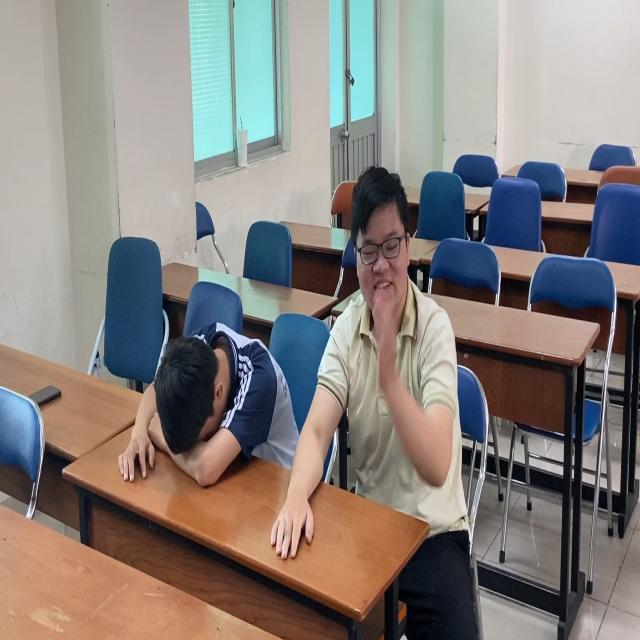raise_hand: (311, 160, 463, 520)
sleep: (116, 310, 300, 500)
